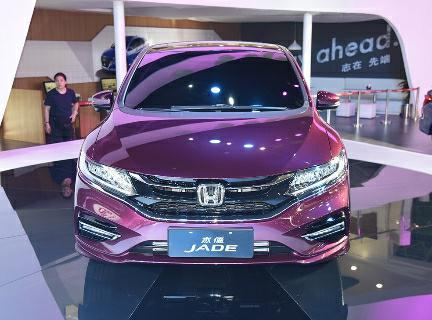本田-杰德: (71, 41, 354, 274)
